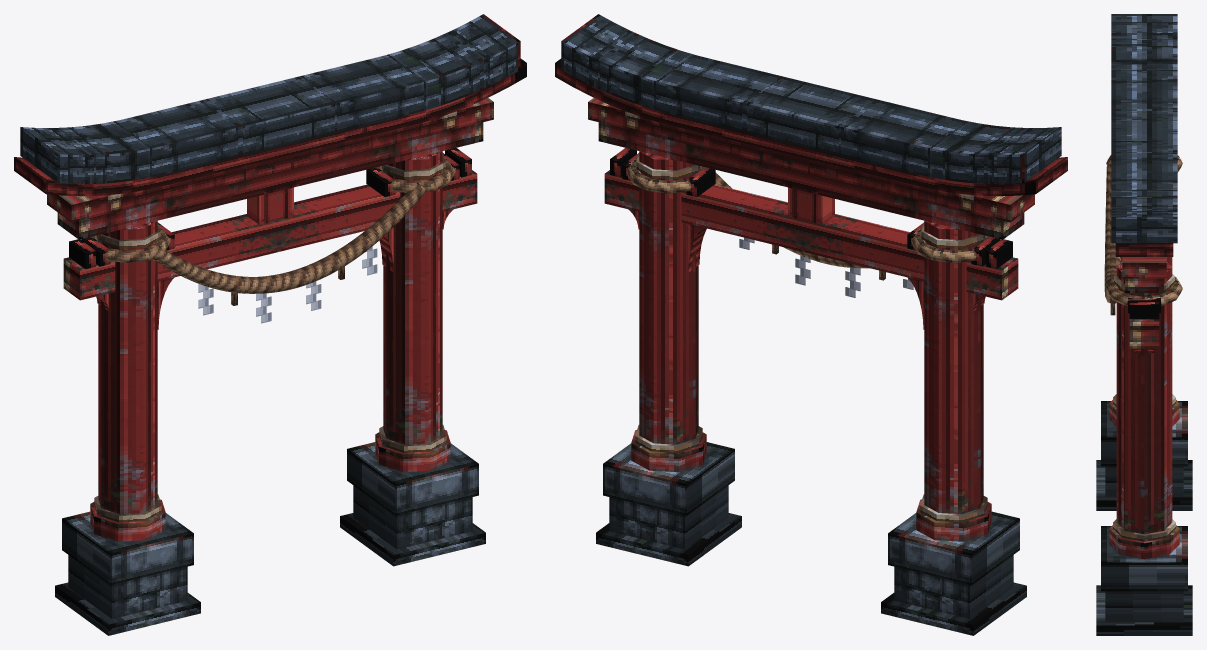
File: ToriiGate.glb
The picture shows the model from 3 angles, left to right: view 1: azimuth 30°, elevation 25°; view 2: azimuth 150°, elevation 25°; view 3: azimuth 270°, elevation 25°; orthographic projection. The views are drawn at different scales.
Visible parts, largest first — view 1: TG_Roof_Main, TG_Beam_Top, TG_Pillar_L, TG_Pillar_R, TG_Beam_Mid, TG_Base_L, TG_Base_R, TG_Rope, TG_Supports, TG_Beam_Inner; view 2: TG_Roof_Main, TG_Beam_Top, TG_Pillar_L, TG_Pillar_R, TG_Beam_Mid, TG_Base_L, TG_Base_R, TG_Rope, TG_Supports, TG_Beam_Inner; view 3: TG_Roof_Main, TG_Pillar_R, TG_Base_R, TG_Base_L, TG_Beam_Top, TG_Rope, TG_Beam_Mid, TG_Pillar_L, TG_Supports.
Part boxes in pixels (x1,y1,x2,y2): TG_Roof_Main: (20,14,520,183); TG_Beam_Top: (14,58,526,239); TG_Pillar_L: (90,220,165,541); TG_Pillar_R: (375,151,450,472); TG_Beam_Mid: (63,148,477,300); TG_Base_L: (55,511,200,635); TG_Base_R: (340,442,485,566); TG_Rope: (90,158,455,305); TG_Supports: (81,153,459,329); TG_Beam_Inner: (247,187,293,224); TG_Roof_Main: (561,14,1061,183); TG_Beam_Top: (555,58,1067,239); TG_Pillar_L: (916,220,991,541); TG_Pillar_R: (631,151,706,472); TG_Beam_Mid: (604,148,1018,300); TG_Base_L: (881,511,1026,635); TG_Base_R: (596,442,741,566); TG_Rope: (626,158,991,280); TG_Supports: (622,153,1000,329); TG_Beam_Inner: (788,187,834,224); TG_Roof_Main: (1111,14,1177,243); TG_Pillar_R: (1109,261,1179,559); TG_Base_R: (1096,526,1192,635); TG_Base_L: (1096,401,1192,510); TG_Beam_Top: (1115,243,1173,292); TG_Rope: (1104,155,1182,315); TG_Beam_Mid: (1129,300,1159,348); TG_Pillar_L: (1109,257,1179,426); TG_Supports: (1128,296,1160,353).
Size of the model in its own units: 5.4 by 5.22 by 1.04.
1 material, 1 textured.
